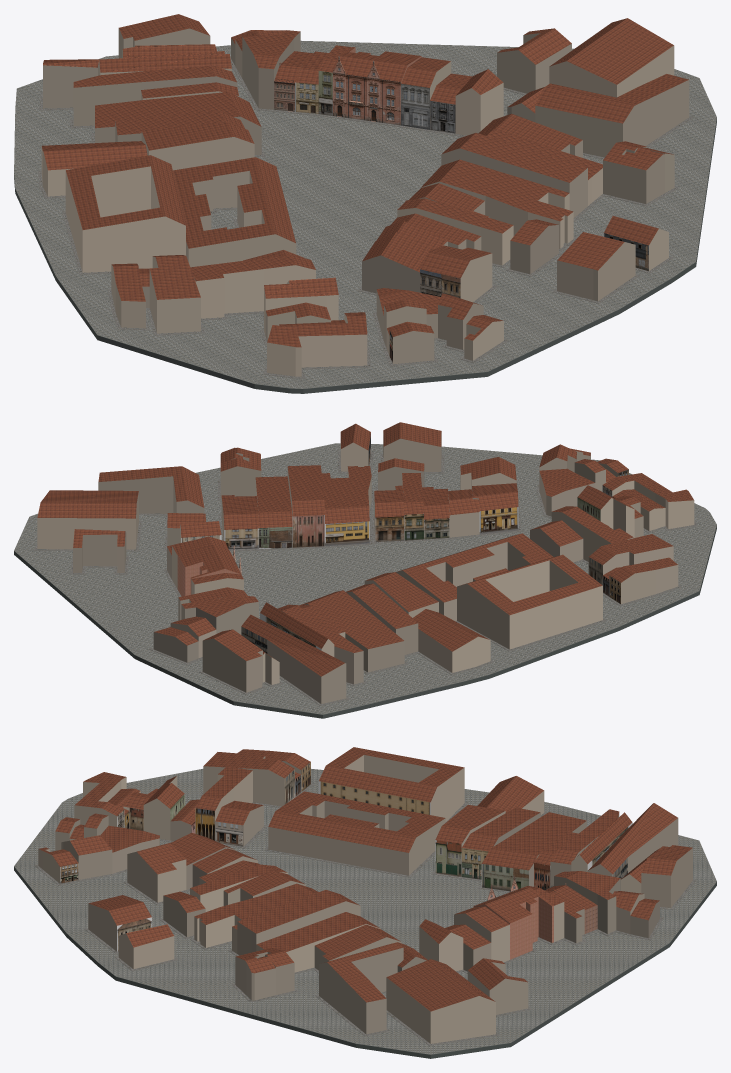
Rendered from mirove.glb.
3 views of the same model, one above another, from view 1: azimuth 30°, elevation 25°; view 2: azimuth 150°, elevation 25°; view 3: azimuth 270°, elevation 25° (orthographic). The views are drawn at different scales.
Visible parts, largest first — view 1: Square_granite_surface, CP1_roof, CP2_GIS_envelope, CP2_roof, Raised_sidewalks_provisional_1_25m, CP274_roof, Presentation_plinth, CP48_roof, CP187_roof, CP80_roof, CP49_roof, CP57_photo_registered_masonry (+73 smaller); view 2: Square_granite_surface, CP2_GIS_envelope, Raised_sidewalks_provisional_1_25m, CP1_roof, Presentation_plinth, CP2_roof, CP274_roof, CP80_roof, CP48_roof, CP187_roof, CP274_coarse_FRONT, CP76_GIS_envelope (+67 smaller); view 3: Square_granite_surface, CP1_roof, CP2_roof, CP274_GIS_envelope, Raised_sidewalks_provisional_1_25m, Presentation_plinth, CP1_coarse_FRONT, CP274_roof, CP187_GIS_envelope, CP80_roof, CP49_roof, CP2_GIS_envelope (+68 smaller).
Boxes of the visible parts, x1,y1,x2,y2 form: Square_granite_surface: (14,40,716,388); CP1_roof: (173,157,295,248); CP2_GIS_envelope: (65,171,185,272); CP2_roof: (66,155,185,230); Raised_sidewalks_provisional_1_25m: (38,57,693,378); CP274_roof: (549,18,673,84); Presentation_plinth: (14,61,716,393); CP48_roof: (421,159,573,221); CP187_roof: (535,74,688,123); CP80_roof: (95,92,261,128); CP49_roof: (442,133,587,182); CP57_photo_registered_masonry: (332,56,400,125); Square_granite_surface: (14,443,716,714); CP2_GIS_envelope: (457,568,602,649); Raised_sidewalks_provisional_1_25m: (34,451,697,705); CP1_roof: (396,533,553,602); Presentation_plinth: (14,471,716,718); CP2_roof: (457,554,602,615); CP274_roof: (37,490,138,518); CP80_roof: (303,590,403,649); CP48_roof: (321,466,371,523); CP187_roof: (98,466,204,508); CP274_coarse_FRONT: (37,518,135,549); CP76_GIS_envelope: (267,640,346,703); Square_granite_surface: (14,769,716,1054); CP1_roof: (268,791,445,852); CP2_roof: (319,747,464,802); CP274_GIS_envelope: (386,977,495,1043); Raised_sidewalks_provisional_1_25m: (34,783,696,1045); Presentation_plinth: (14,797,716,1058); CP1_coarse_FRONT: (268,827,408,875); CP274_roof: (386,959,495,1011); CP187_GIS_envelope: (319,955,403,1034); CP80_roof: (482,812,586,870); CP49_roof: (237,890,359,933); CP2_GIS_envelope: (351,757,464,821).
Bounding box in the file's own units: 299 × 26.58 × 303.
104 materials, 46 textured.
